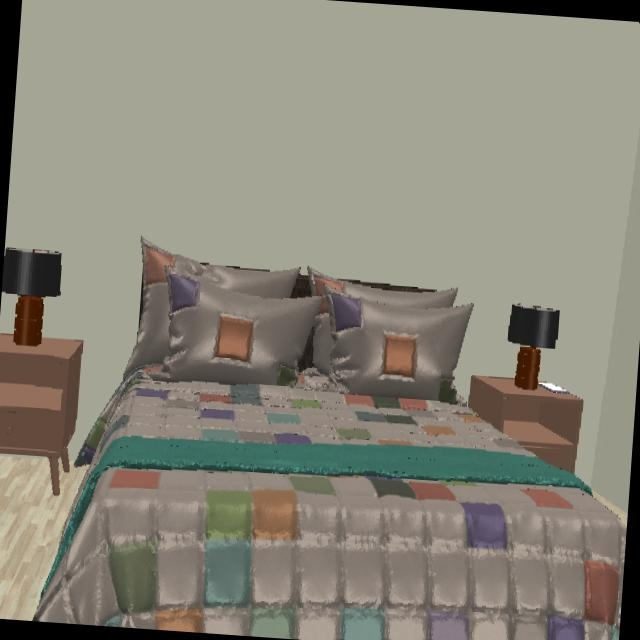bed: (36, 367, 625, 640)
lamp: (1, 248, 61, 346), (508, 304, 558, 389)
nighttable: (0, 334, 83, 492), (469, 377, 581, 470)
pillow: (125, 240, 472, 399)
